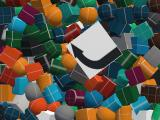Right: (66, 21, 123, 79)
